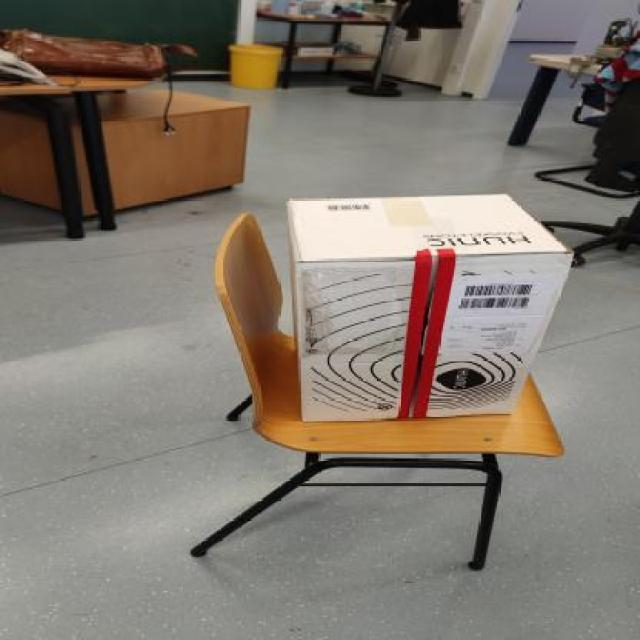box: (253, 188, 564, 428)
